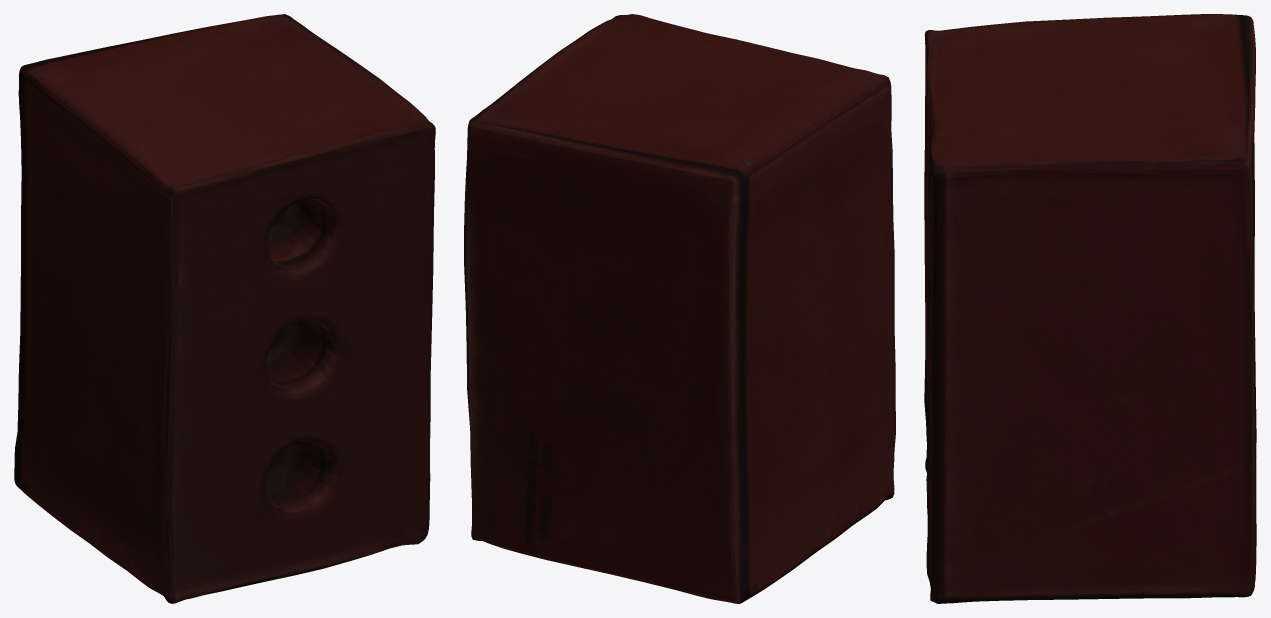
The model's file is ycb_foam_brick.glb.
3 renders of one model, left to right at view 1: azimuth 30°, elevation 25°; view 2: azimuth 150°, elevation 25°; view 3: azimuth 270°, elevation 25°, orthographic. The views are drawn at different scales.
Parts seen in each view (by area): view 1: 061_foam_brick; view 2: 061_foam_brick; view 3: 061_foam_brick.
Boxes of the visible parts, box(x1,y1,x2,y2) form: 061_foam_brick: box(14, 14, 435, 603); 061_foam_brick: box(464, 14, 895, 603); 061_foam_brick: box(924, 14, 1256, 603).
Size of the model in its own units: 0.0524 by 0.0777 by 0.051.
1 material, 1 textured.
